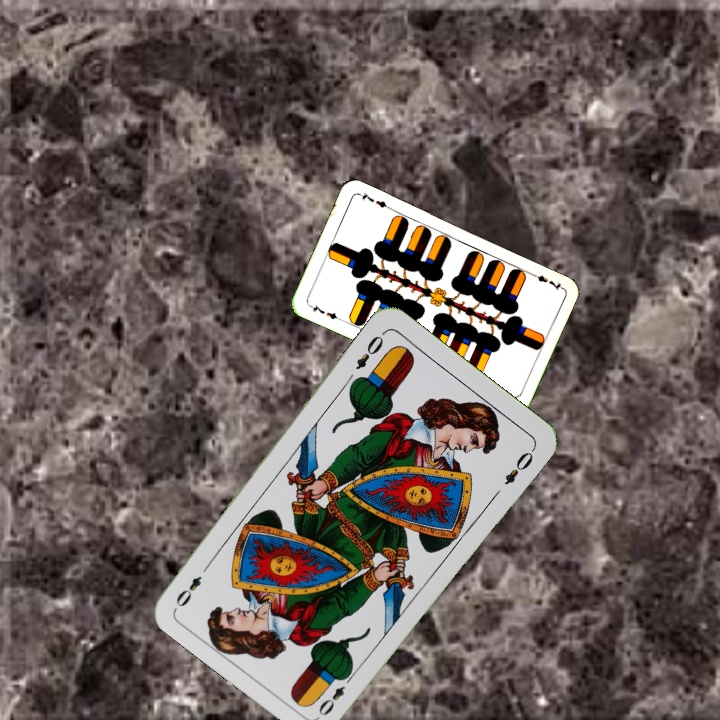E7: (526, 268, 564, 293), (305, 300, 343, 323)
EO: (314, 669, 357, 719), (351, 331, 387, 373)
